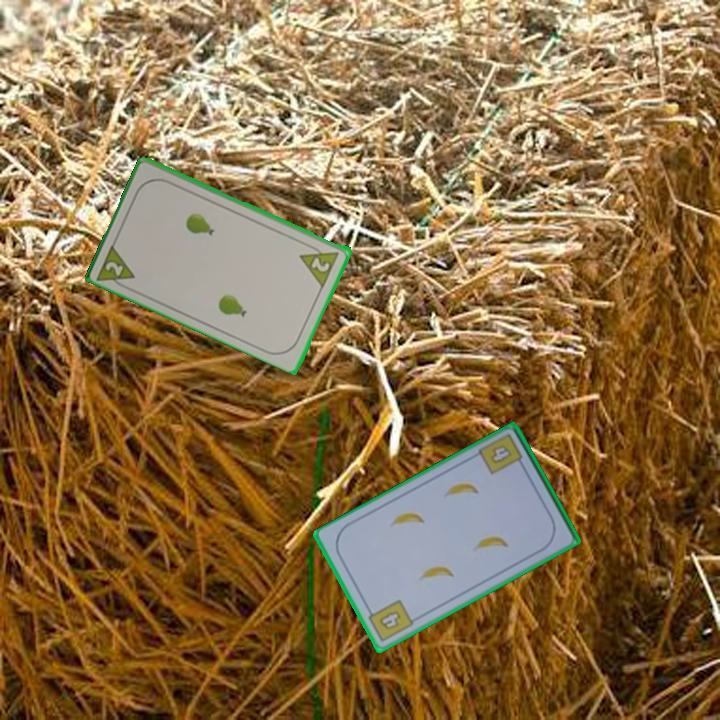2p: (93, 239, 139, 293), (296, 239, 342, 289)
4b: (363, 596, 416, 645), (475, 430, 527, 478)
